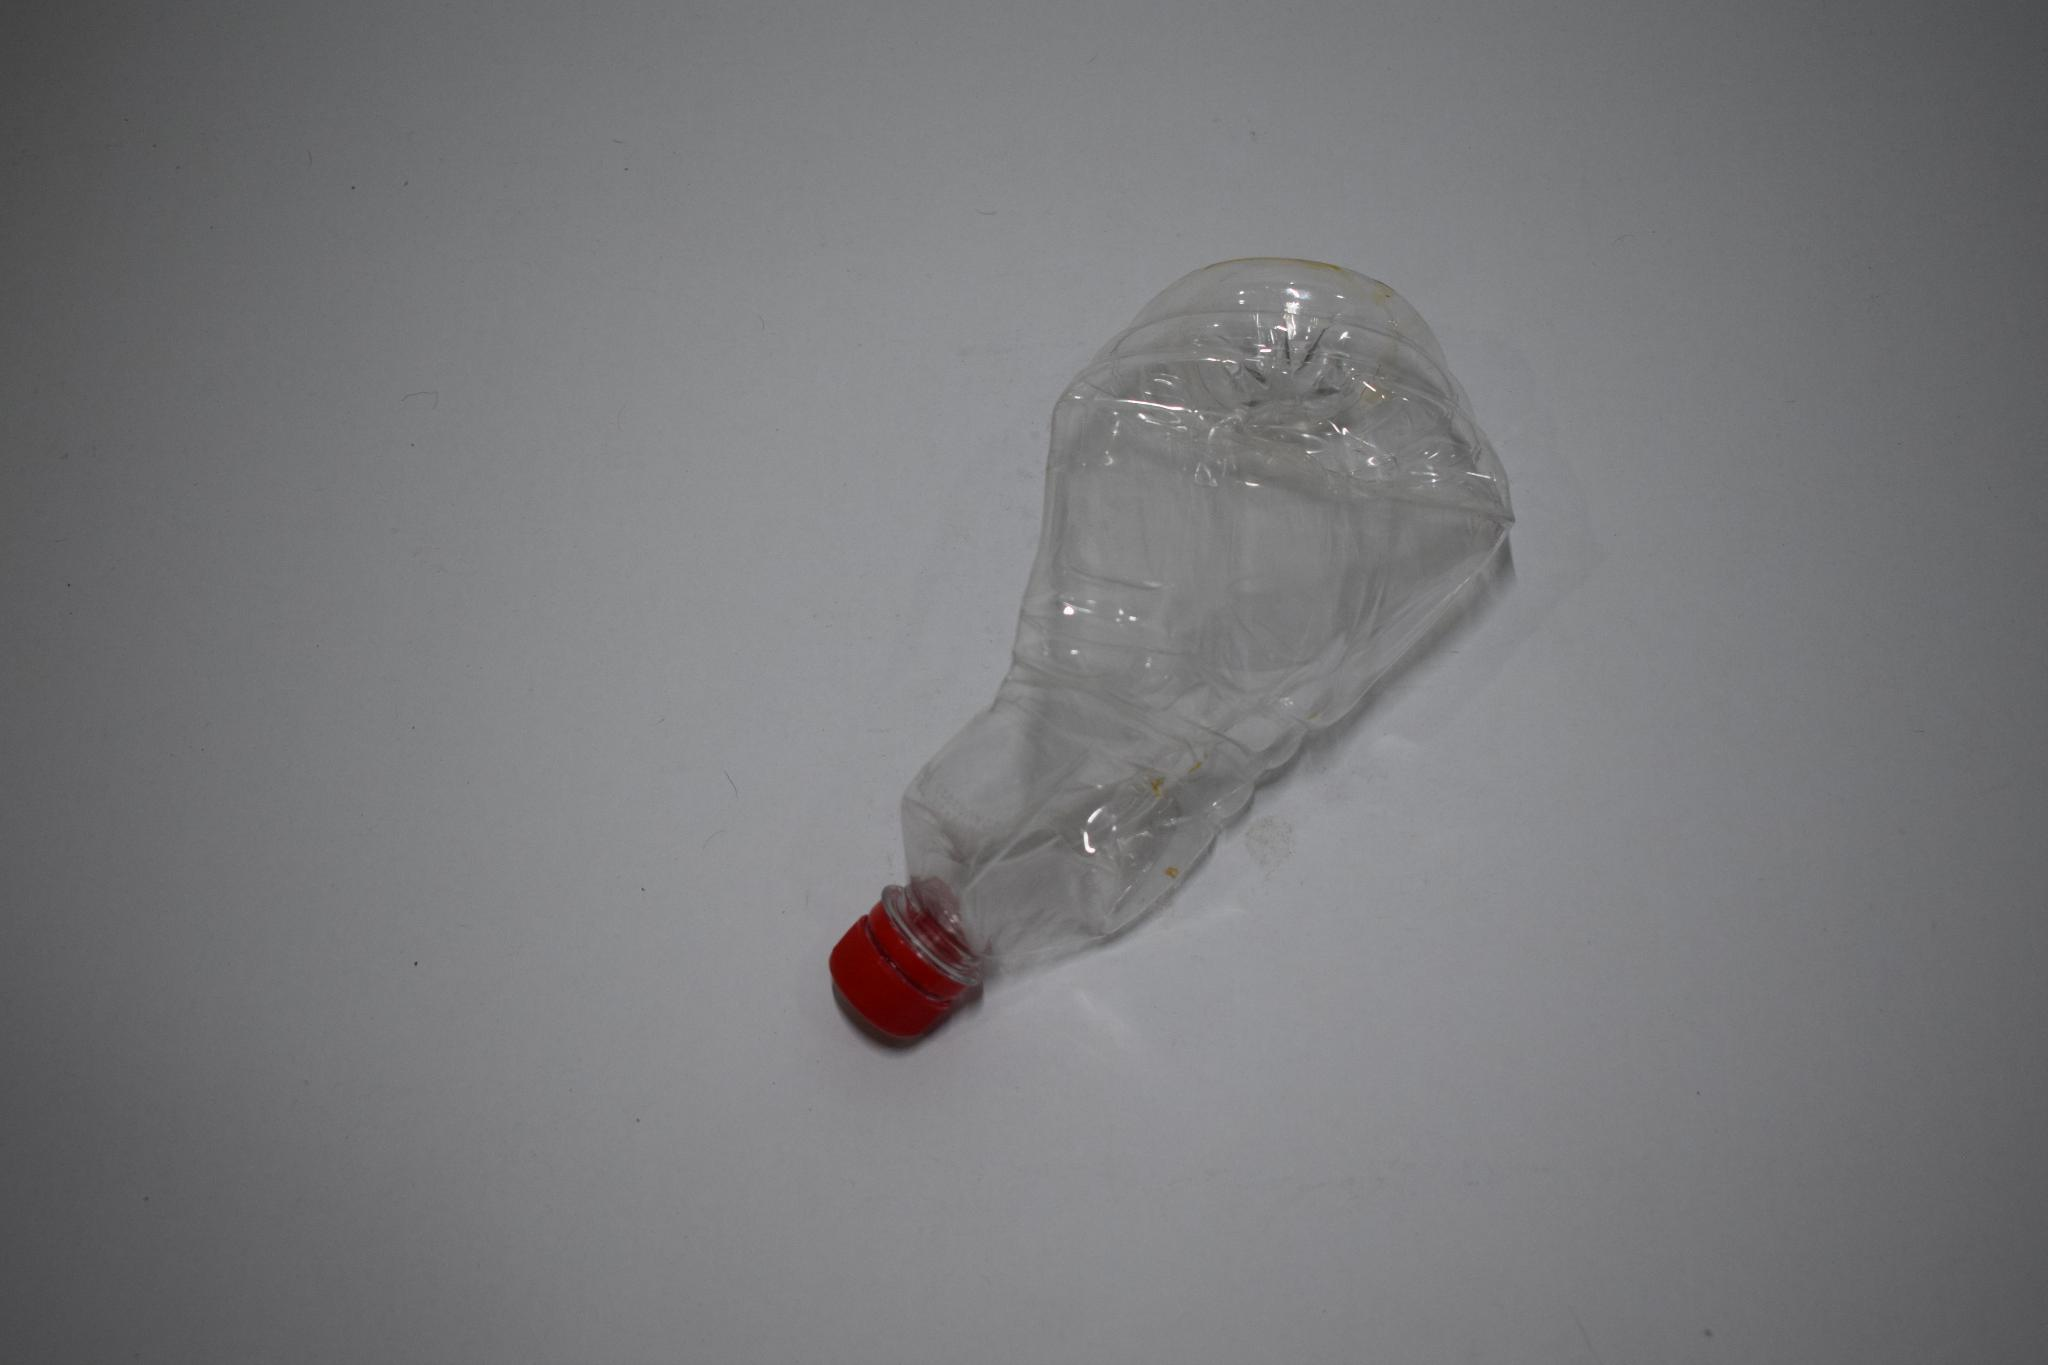bottle: (770, 193, 1552, 1085)
